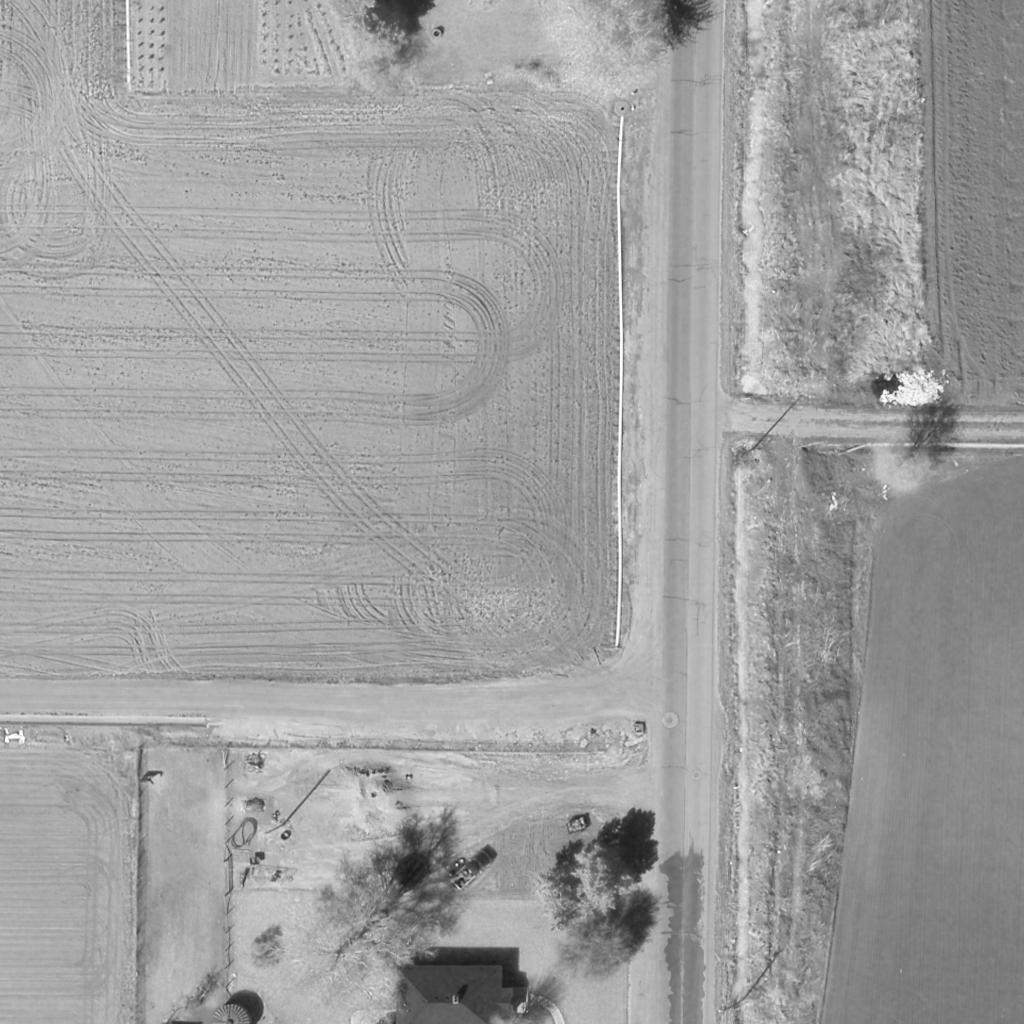vehicle: (447, 848, 495, 894)
